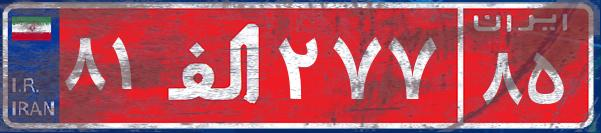1: (110, 28, 158, 105)
2: (273, 28, 330, 110)
5: (525, 38, 570, 115)
7: (385, 28, 445, 110), (330, 28, 385, 110)
8: (57, 26, 110, 107), (475, 38, 525, 113)
الف: (158, 15, 273, 115)
